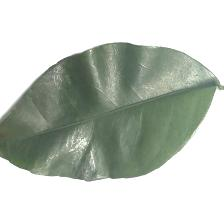healthy: (13, 56, 198, 166)
